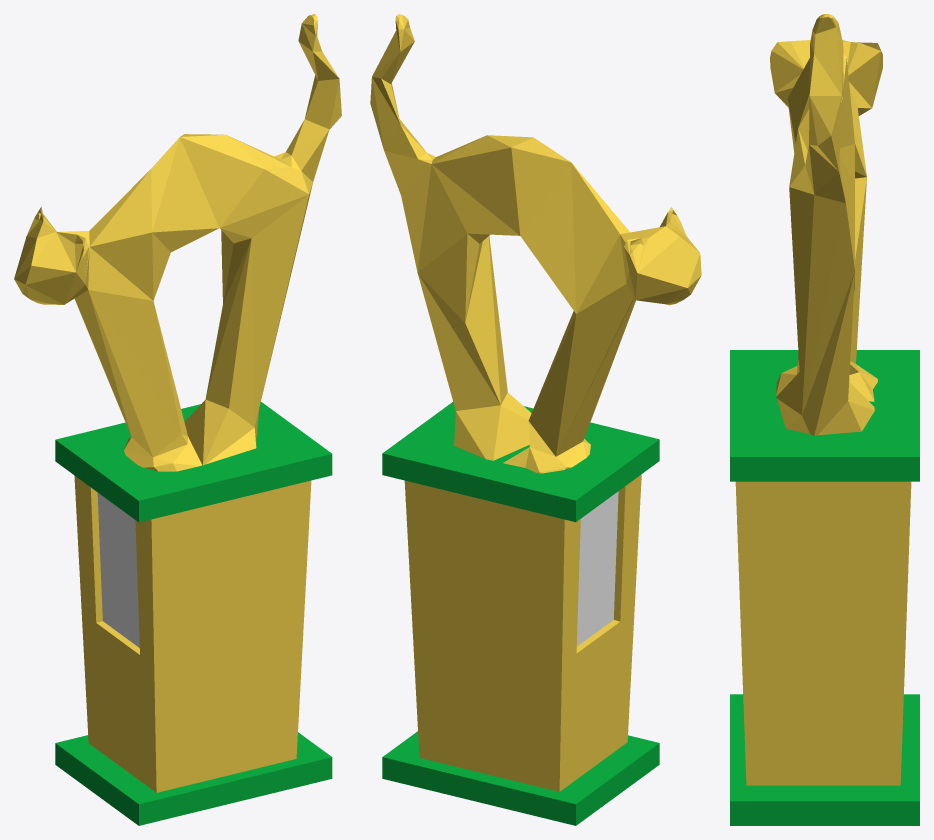
File: goldCatgreen.FBX
3 renders of one model, left to right at view 1: azimuth 30°, elevation 25°; view 2: azimuth 150°, elevation 25°; view 3: azimuth 270°, elevation 25°, orthographic. The views are drawn at different scales.
Parts seen in each view (by area): view 1: Box230; view 2: Box230; view 3: Box230.
Part boxes in pixels (x1,y1,x2,y2): Box230: (14, 14, 341, 825); Box230: (370, 14, 701, 825); Box230: (730, 14, 919, 825).
Bounding box in the file's own units: 10.44 × 22.51 × 4.69.
